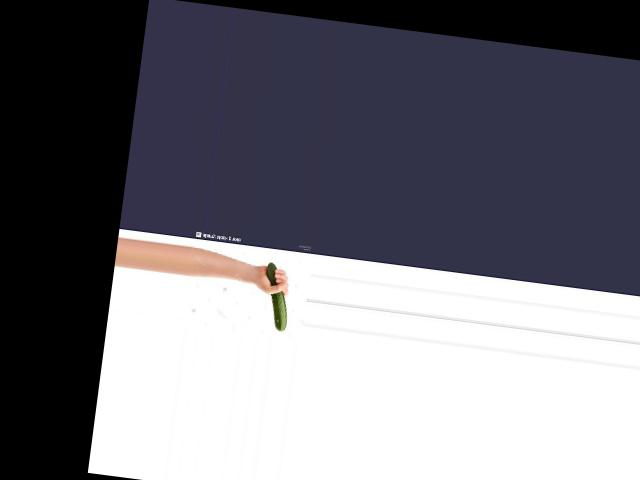cucumber: (260, 262, 294, 331)
